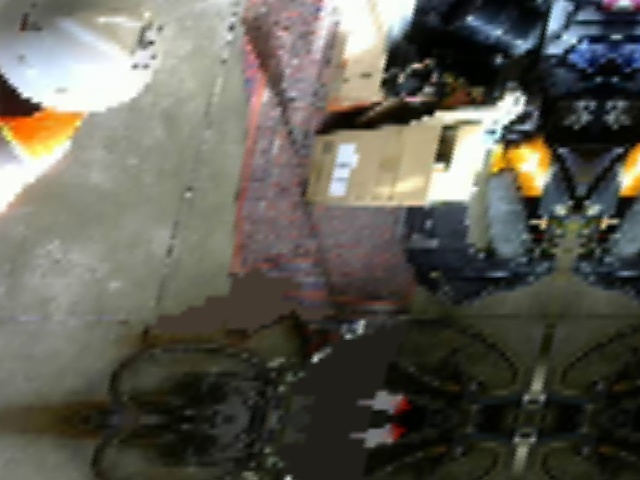one: (131, 21, 163, 68)
